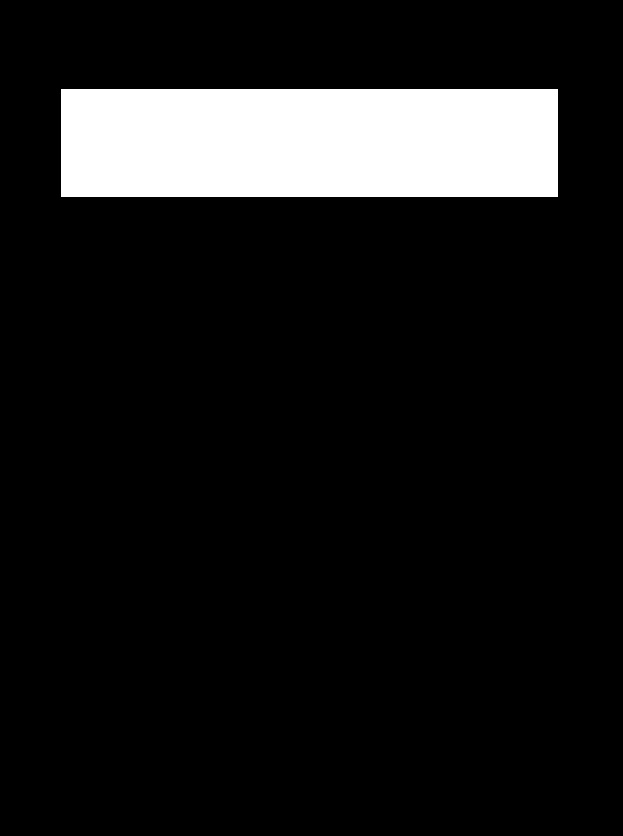table: (61, 89, 557, 196)
